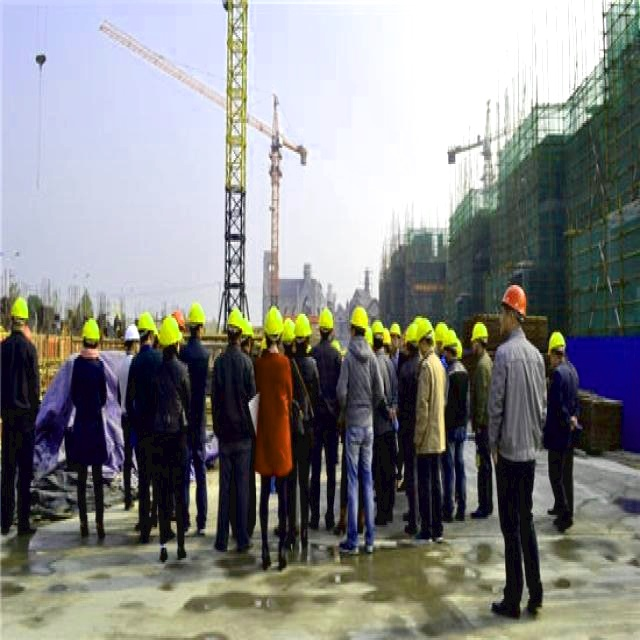Con_Casco: (501, 283, 526, 335), (160, 316, 183, 353), (547, 333, 565, 371), (10, 296, 30, 330), (83, 317, 100, 355)
